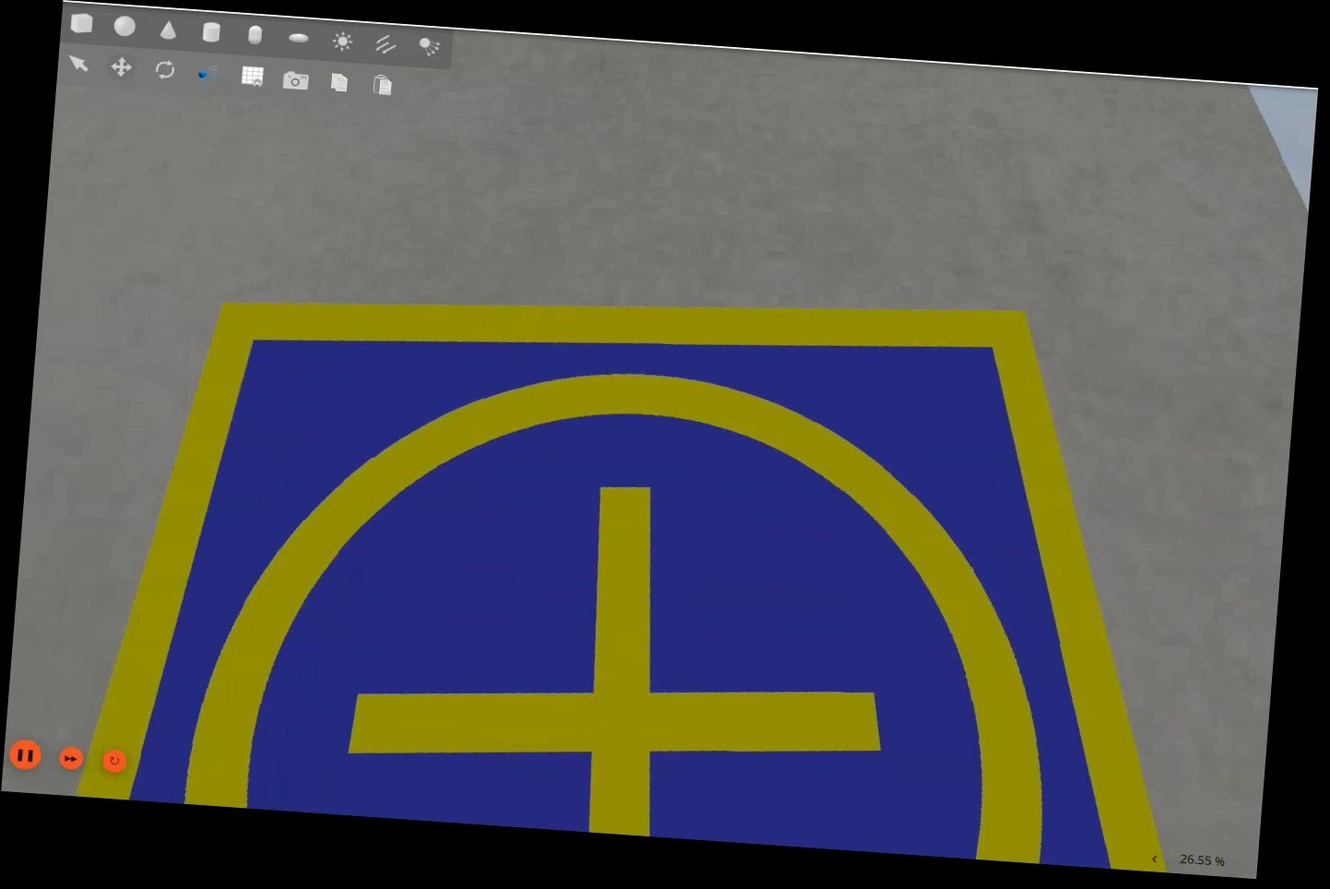small_base: (76, 243, 1205, 875)
